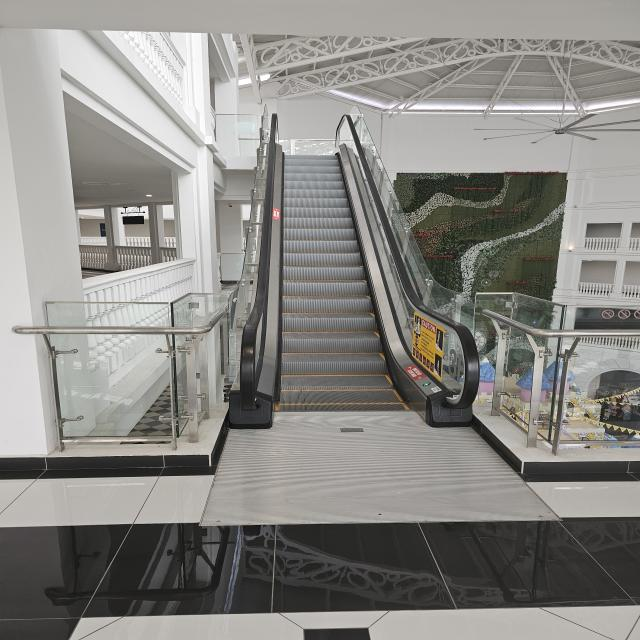escalator: (275, 150, 410, 412)
footpath: (4, 455, 640, 640)
